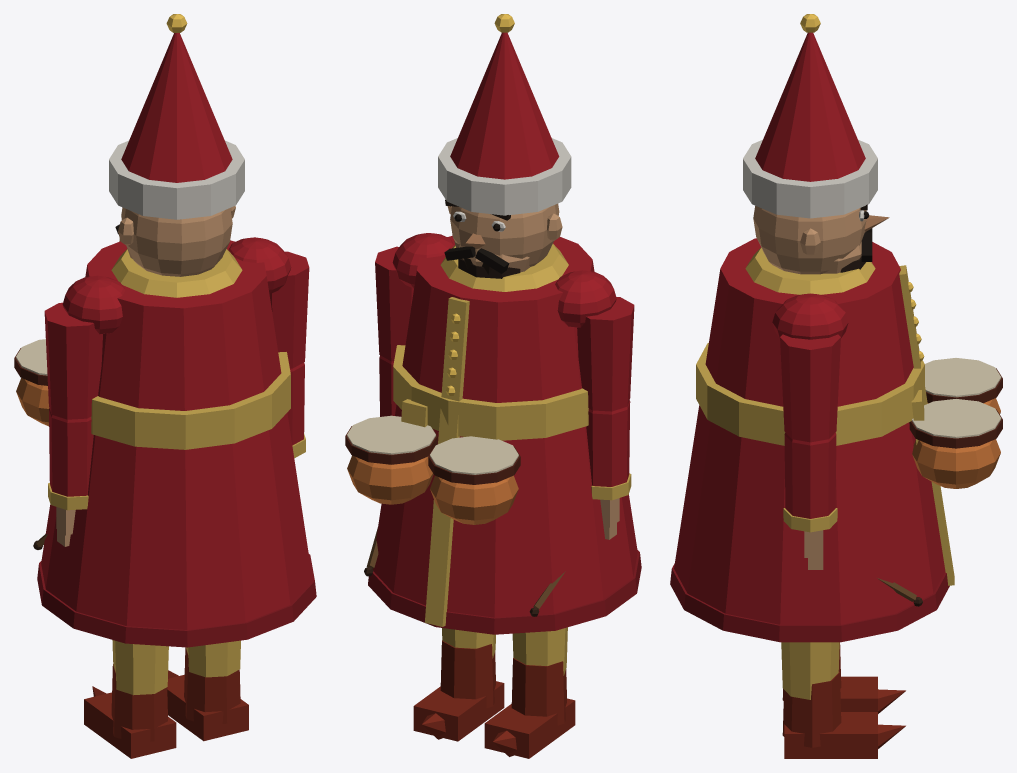
The model's file is mehter-4.glb.
3 renders of one model, left to right at view 1: azimuth 30°, elevation 25°; view 2: azimuth 150°, elevation 25°; view 3: azimuth 270°, elevation 25°, orthographic. The views are drawn at different scales.
Visible parts, largest first — view 1: govde, bas, kolL, bacakL, bacakR, kolR; view 2: govde, bas, kolL, bacakL, bacakR, kolR; view 3: govde, bas, kolR, bacakR, bacakL.
Part boxes in pixels (box(x1,y1,x2,y2)): govde: box(14, 237, 316, 647); bas: box(109, 14, 244, 276); kolL: box(33, 302, 102, 549); bacakL: box(84, 640, 176, 758); bacakR: box(167, 640, 248, 741); kolR: box(269, 251, 309, 458); govde: box(345, 233, 641, 634); bas: box(438, 14, 571, 278); kolL: box(529, 297, 634, 616); bacakL: box(484, 627, 575, 758); bacakR: box(413, 628, 504, 741); kolR: box(364, 246, 413, 576); govde: box(670, 238, 1002, 642); bas: box(743, 14, 889, 274); kolR: box(780, 334, 922, 606); bacakR: box(781, 642, 905, 758); bacakL: box(782, 642, 905, 713).
Size of the model in its own units: 0.856 by 2.3 by 0.96.
